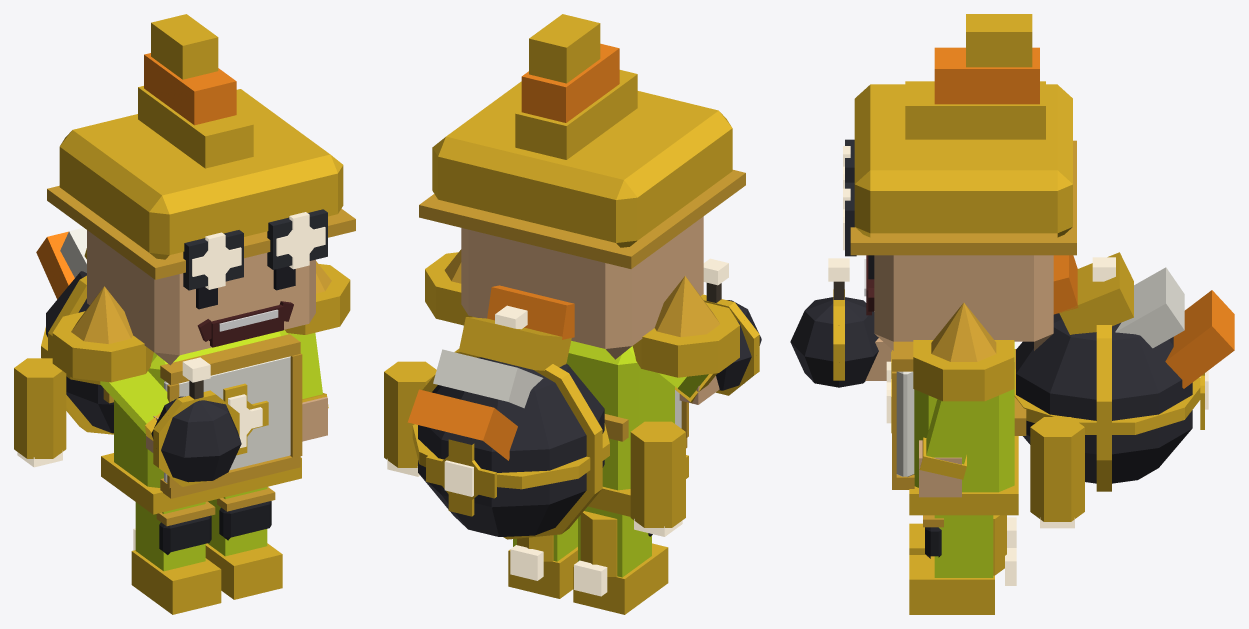
File: daredevil_legend.glb
3 views of the same model, side by side, from view 1: azimuth 30°, elevation 25°; view 2: azimuth 150°, elevation 25°; view 3: azimuth 270°, elevation 25° (orthographic). The views are drawn at different scales.
Parts seen in each view (by area): view 1: daredevil_legend_mesh; view 2: daredevil_legend_mesh; view 3: daredevil_legend_mesh.
Part boxes in pixels (bbox=[...]): daredevil_legend_mesh: bbox=[14, 14, 355, 614]; daredevil_legend_mesh: bbox=[384, 14, 761, 614]; daredevil_legend_mesh: bbox=[790, 14, 1234, 614].
Size of the model in its own units: 0.6999 by 1.3 by 0.9284.
Materials: 2 (2 with a texture image).
